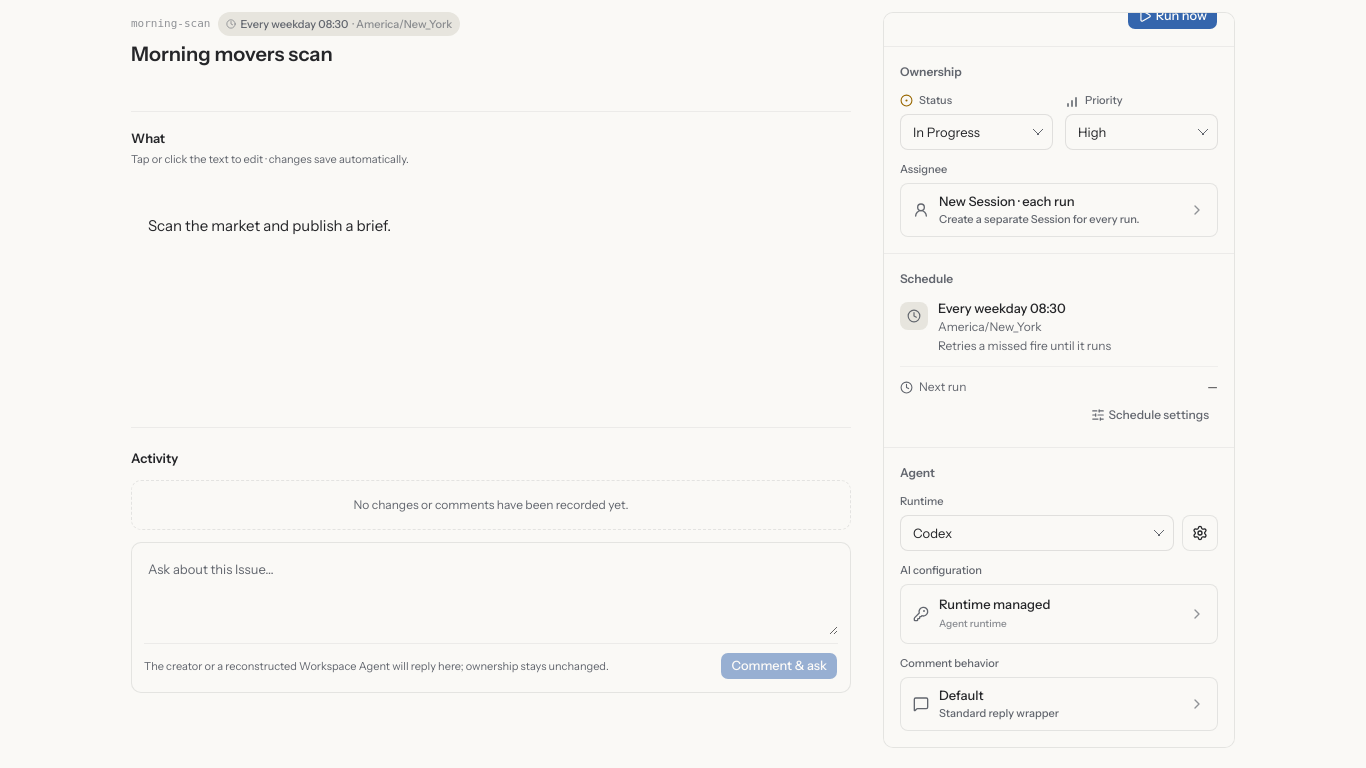
Scenario: IssueDetail property controls › names every editable property and resolves inherited runtime defaults
The image size is (1366, 768).
(page scrolled)
Expected: the header "Morning movers scan" is shown, [131, 12, 460, 66]
Expected: the dropdown named "Status" is shown, [900, 114, 1053, 150]
Click the button with aria-label "AI configuration" at [995, 604], box [900, 584, 1218, 644]
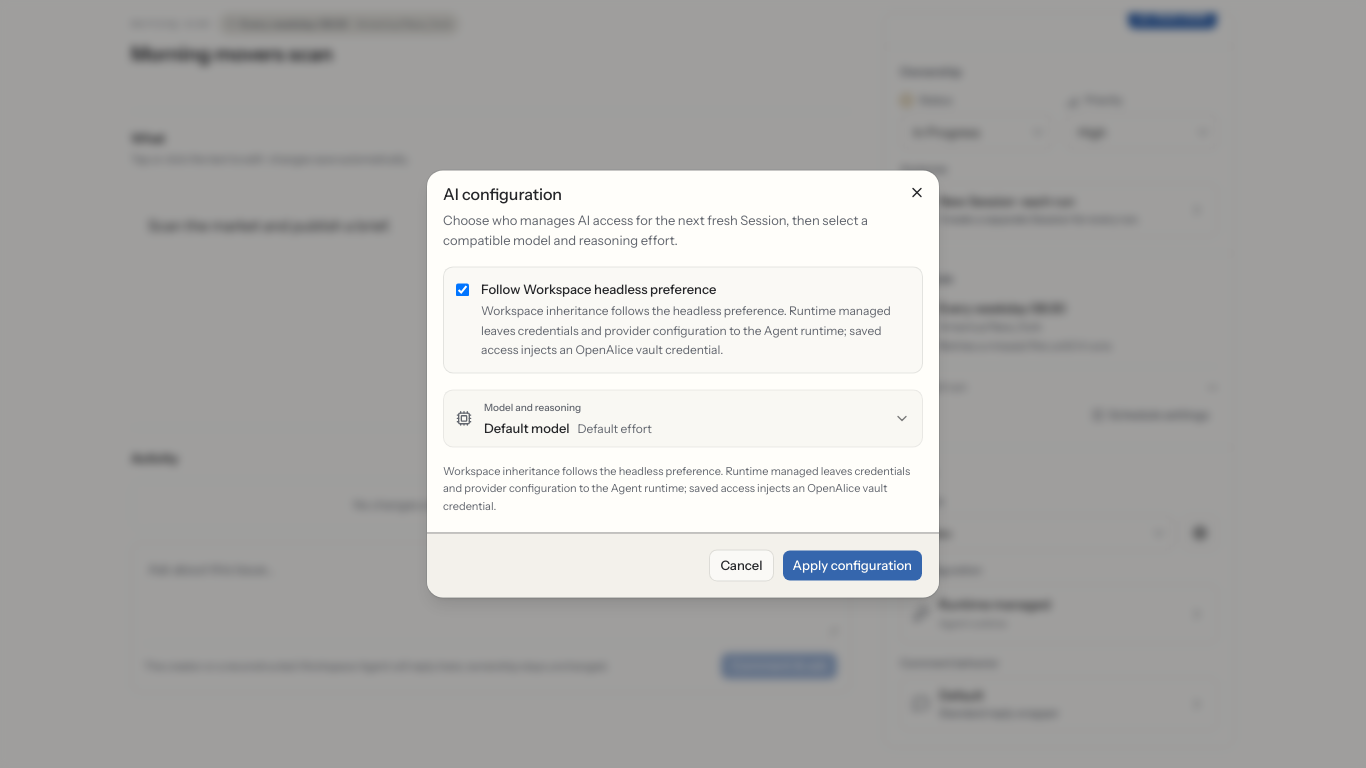
Now the checkbox labelled "Follow Workspace headless preference" is checked, box [456, 283, 469, 296]
Click the button "Model and reasoning" at [533, 407], box [443, 389, 923, 447]
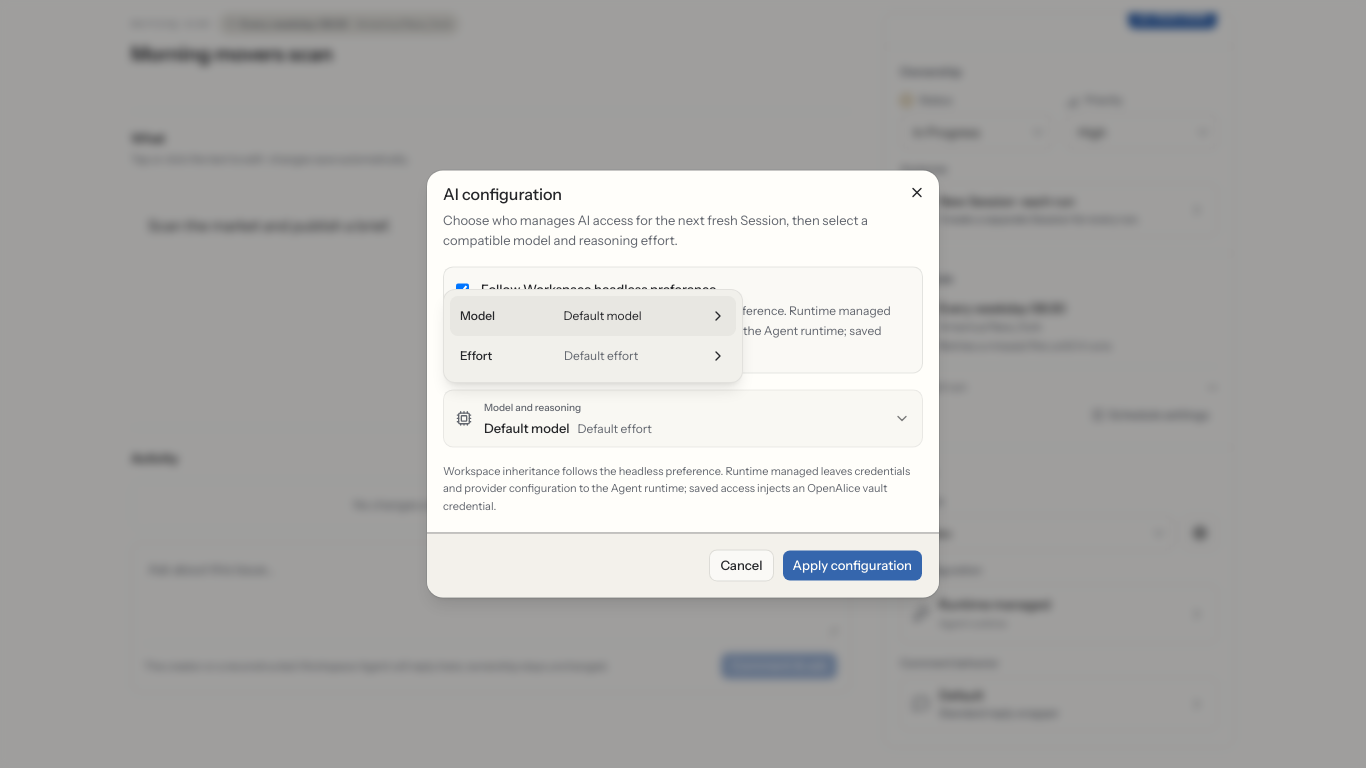
Click the menu item "Model Default model" at [593, 316], box [450, 296, 736, 336]
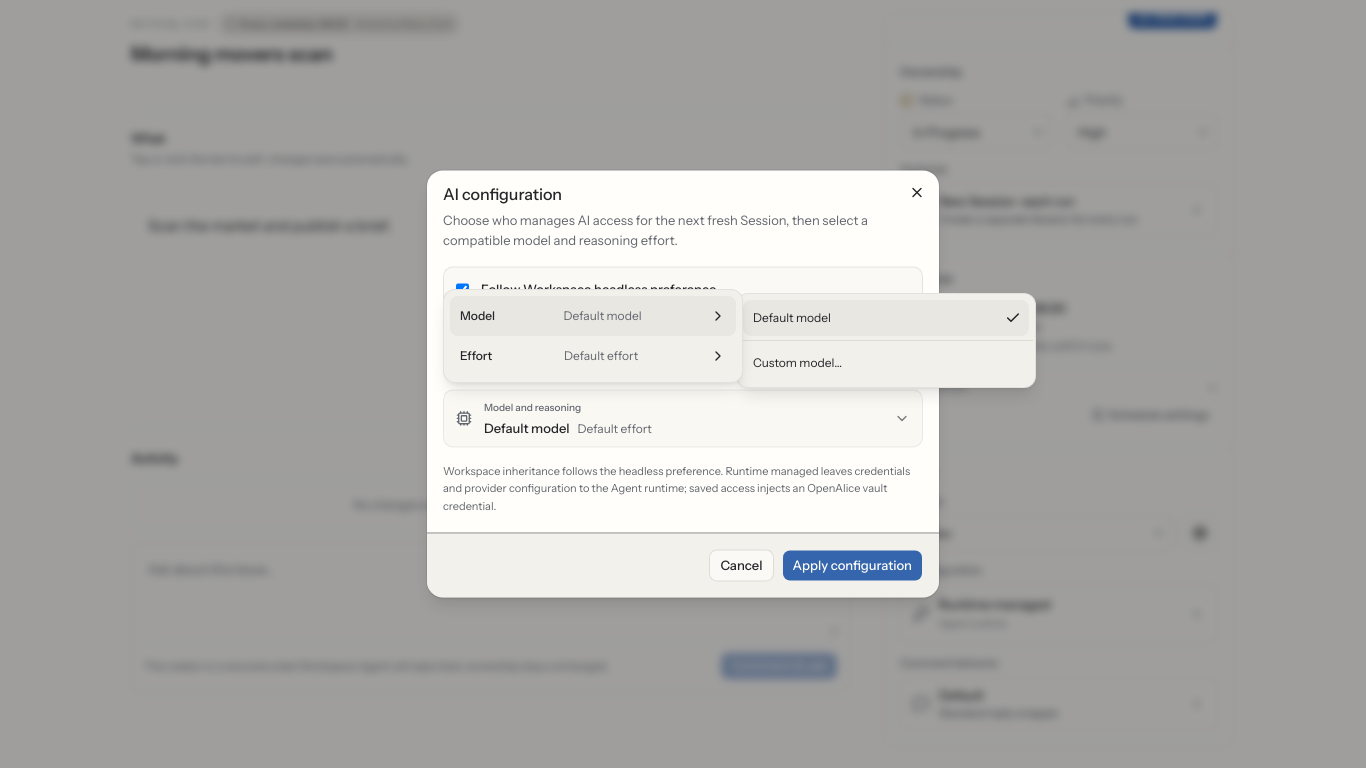
Click the menu item "Custom model…" at [798, 362], box [753, 355, 842, 370]
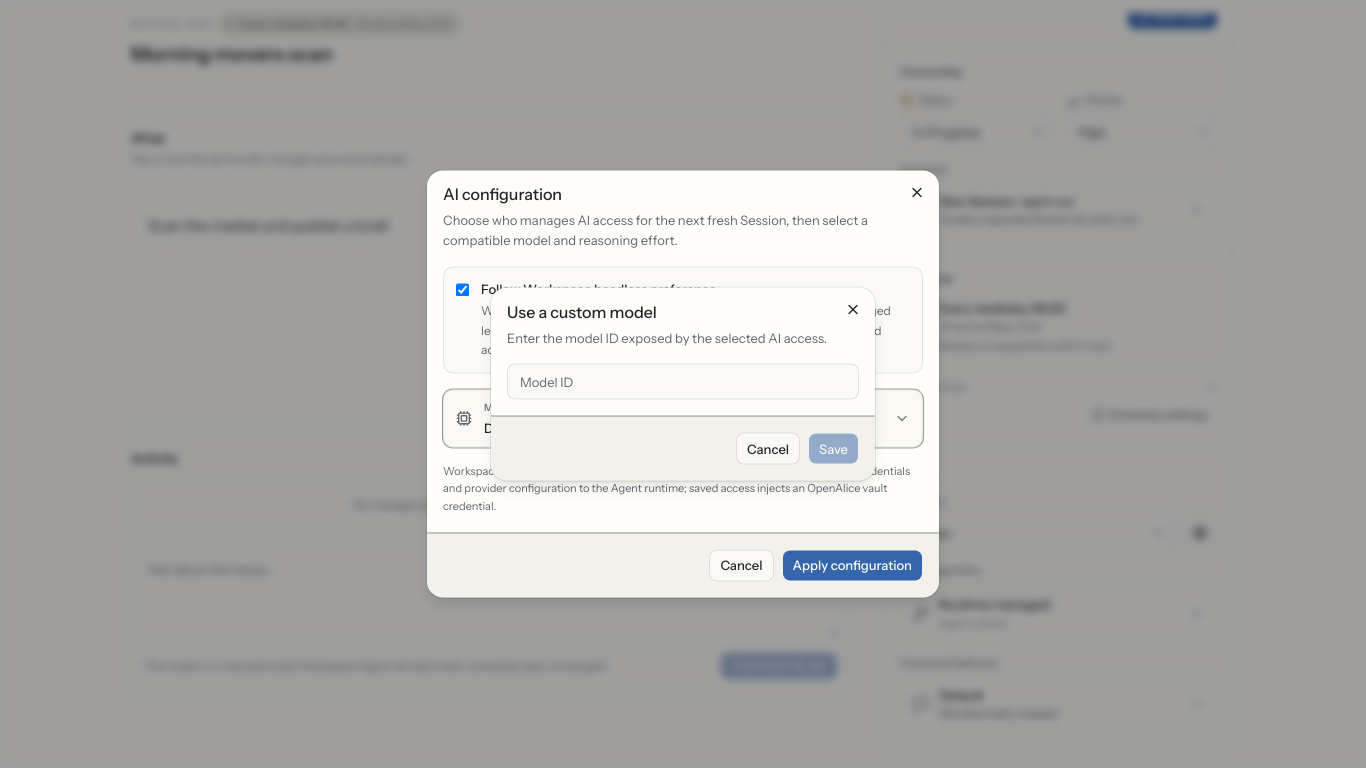
Now the field labelled "Model ID" is shown, box [507, 364, 859, 400]
